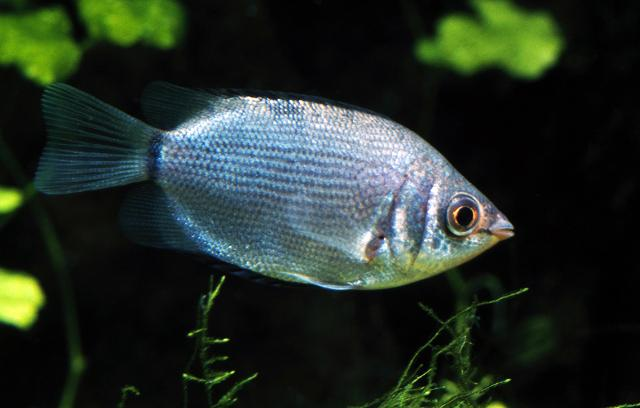Mulut: (460, 204, 544, 258)
Sirip Anal: (97, 182, 233, 272)
Sirip Dada: (262, 174, 400, 274)
Sirip Ekor: (12, 68, 176, 206)
Sirip Perut: (264, 257, 368, 307)
Sirip Punggung: (154, 66, 370, 134)
